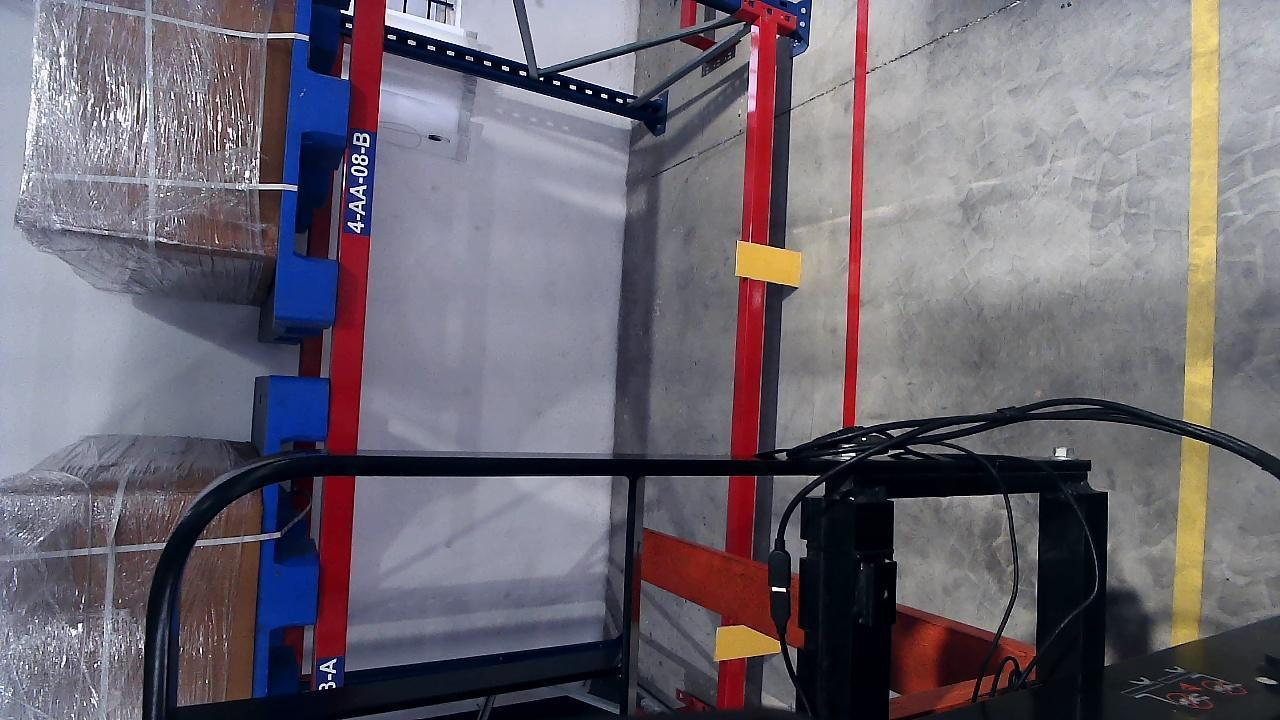red_line: (840, 2, 869, 431)
yellow_line: (1168, 0, 1216, 638)
